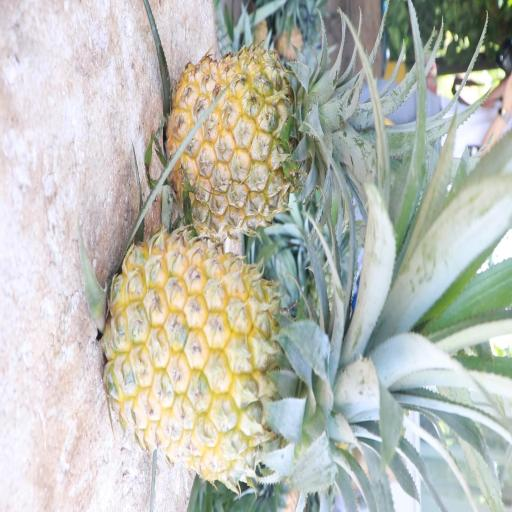Pineapple - v8 v1: (98, 223, 388, 482), (161, 41, 362, 243), (216, 154, 226, 158), (223, 112, 232, 112)
